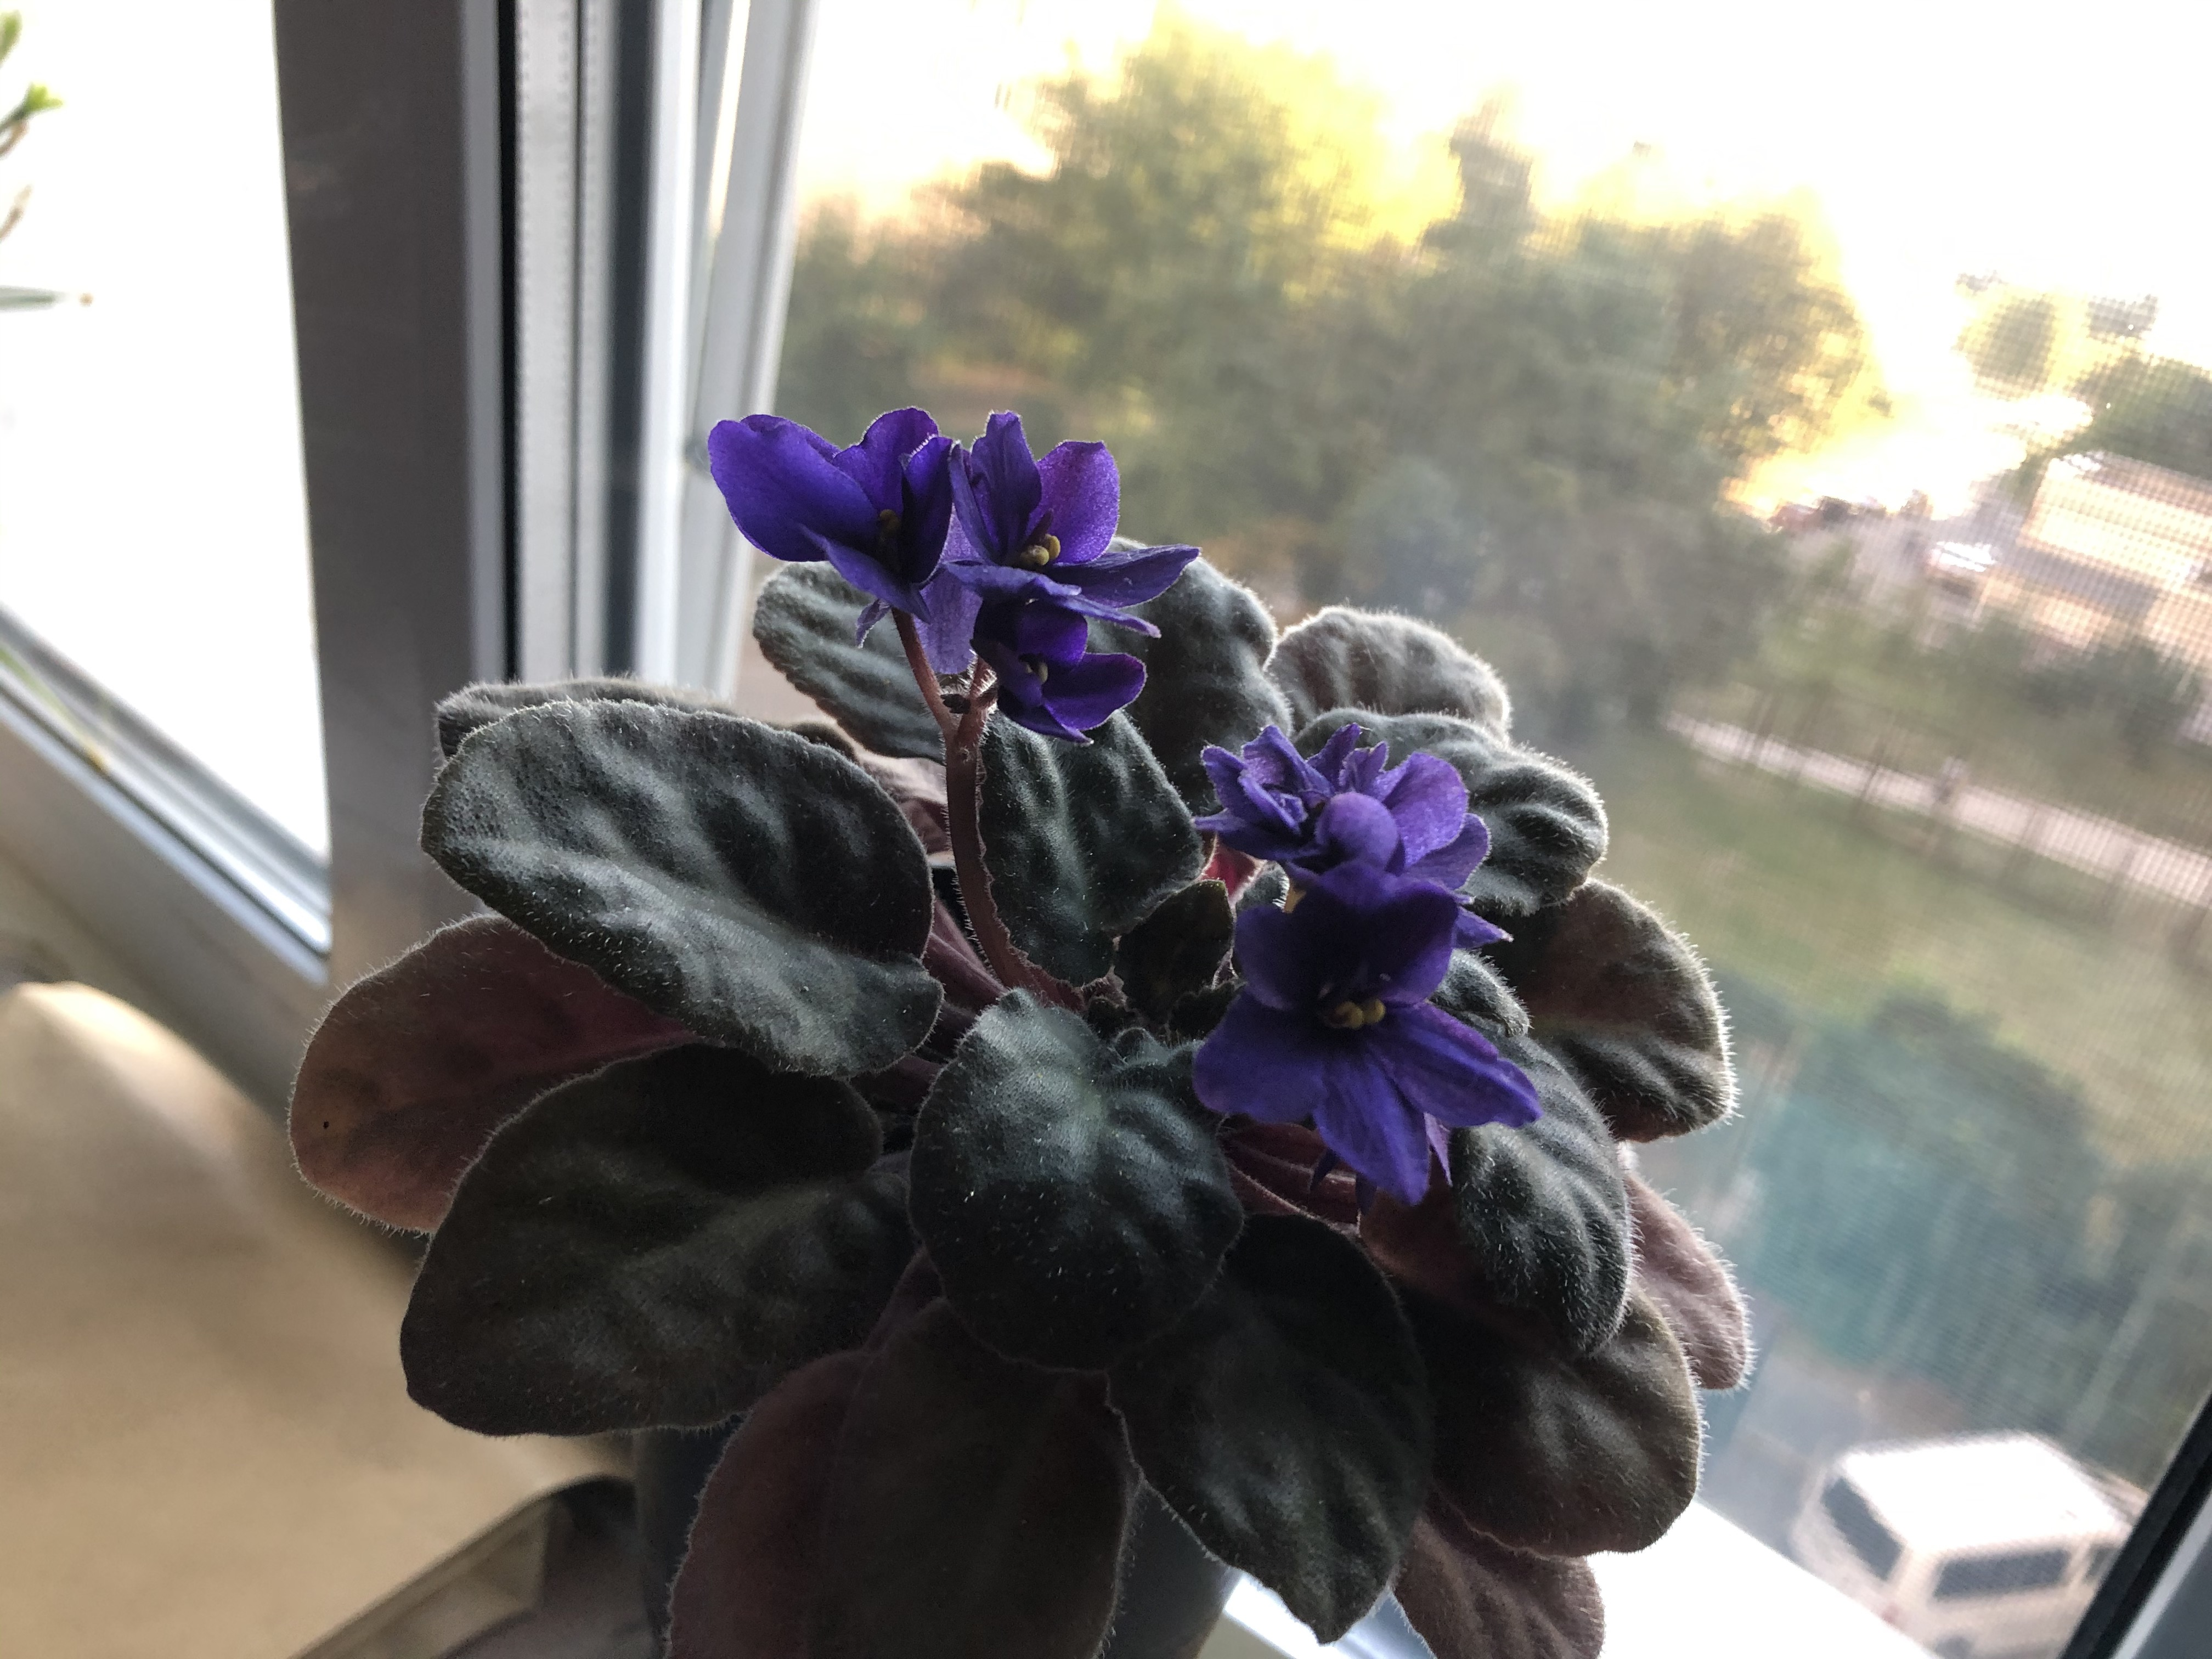ignore: (251, 390, 1846, 1640)
